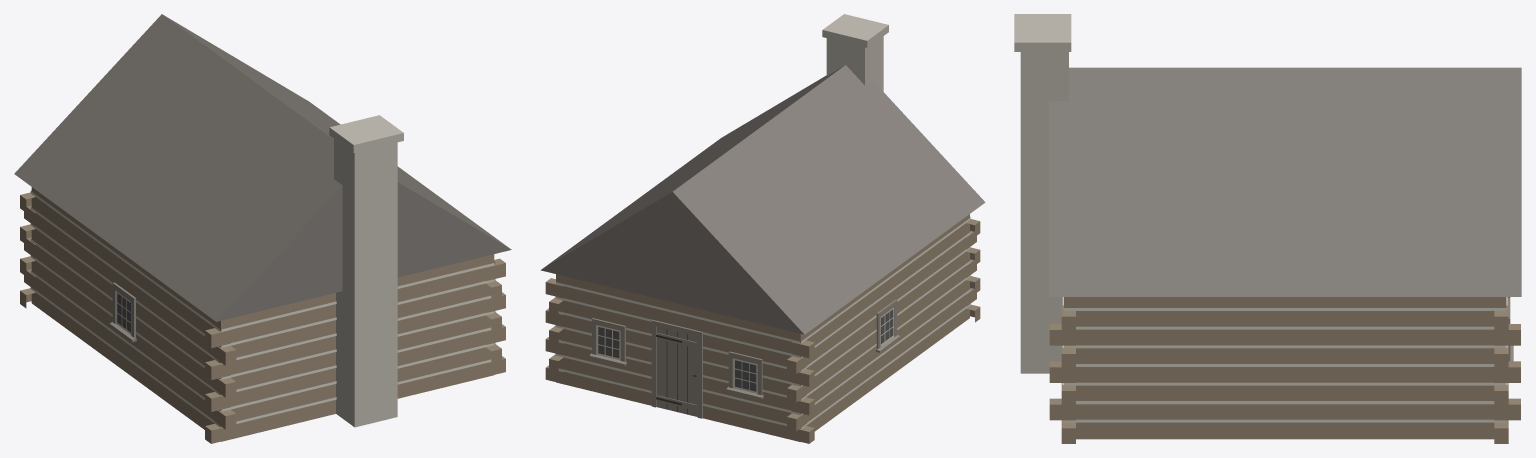
The model's file is recon_1835_west_027__inferred_1835.glb.
3 views of the same model, side by side, from view 1: azimuth 30°, elevation 25°; view 2: azimuth 150°, elevation 25°; view 3: azimuth 270°, elevation 25° (orthographic). The views are drawn at different scales.
Parts seen in each view (by area): view 1: recon_1835_west_027__inferred_1835; view 2: recon_1835_west_027__inferred_1835; view 3: recon_1835_west_027__inferred_1835.
Boxes of the visible parts, x1,y1,x2,y2 form: recon_1835_west_027__inferred_1835: (14, 14, 511, 443); recon_1835_west_027__inferred_1835: (541, 14, 985, 443); recon_1835_west_027__inferred_1835: (1014, 14, 1521, 443).
Bounding box in the file's own units: 6.6 × 6.08 × 8.39.
